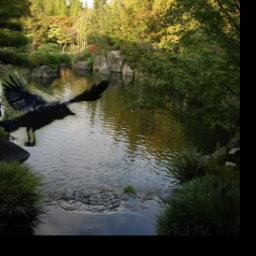Crow: (0, 66, 110, 148)
